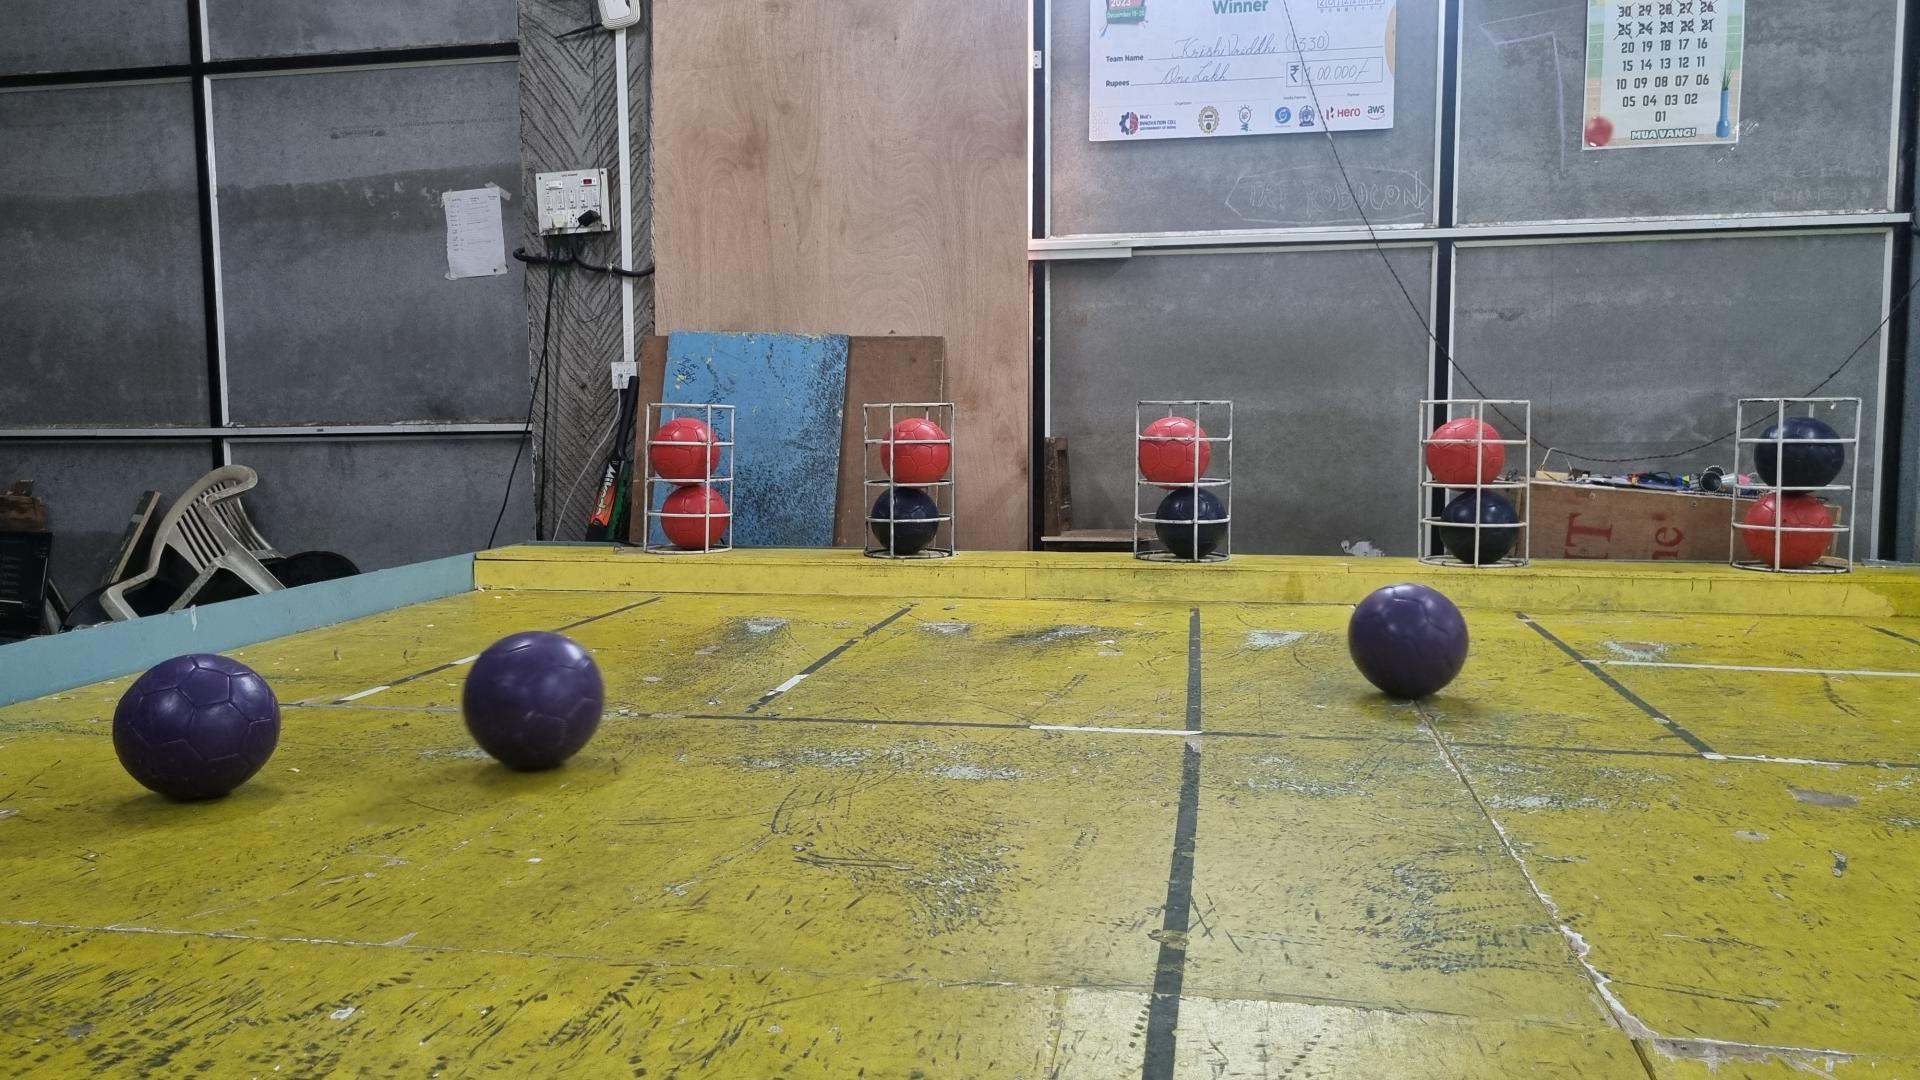dhoka: (1755, 415, 1845, 487), (1440, 491, 1519, 566), (1155, 487, 1226, 558), (870, 487, 942, 555)
laale: (1743, 495, 1834, 570), (1425, 415, 1503, 484), (1137, 415, 1212, 484), (881, 415, 952, 484), (659, 484, 732, 551), (649, 415, 720, 480)
